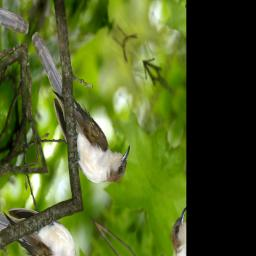Cuckoo: (8, 29, 139, 207)
